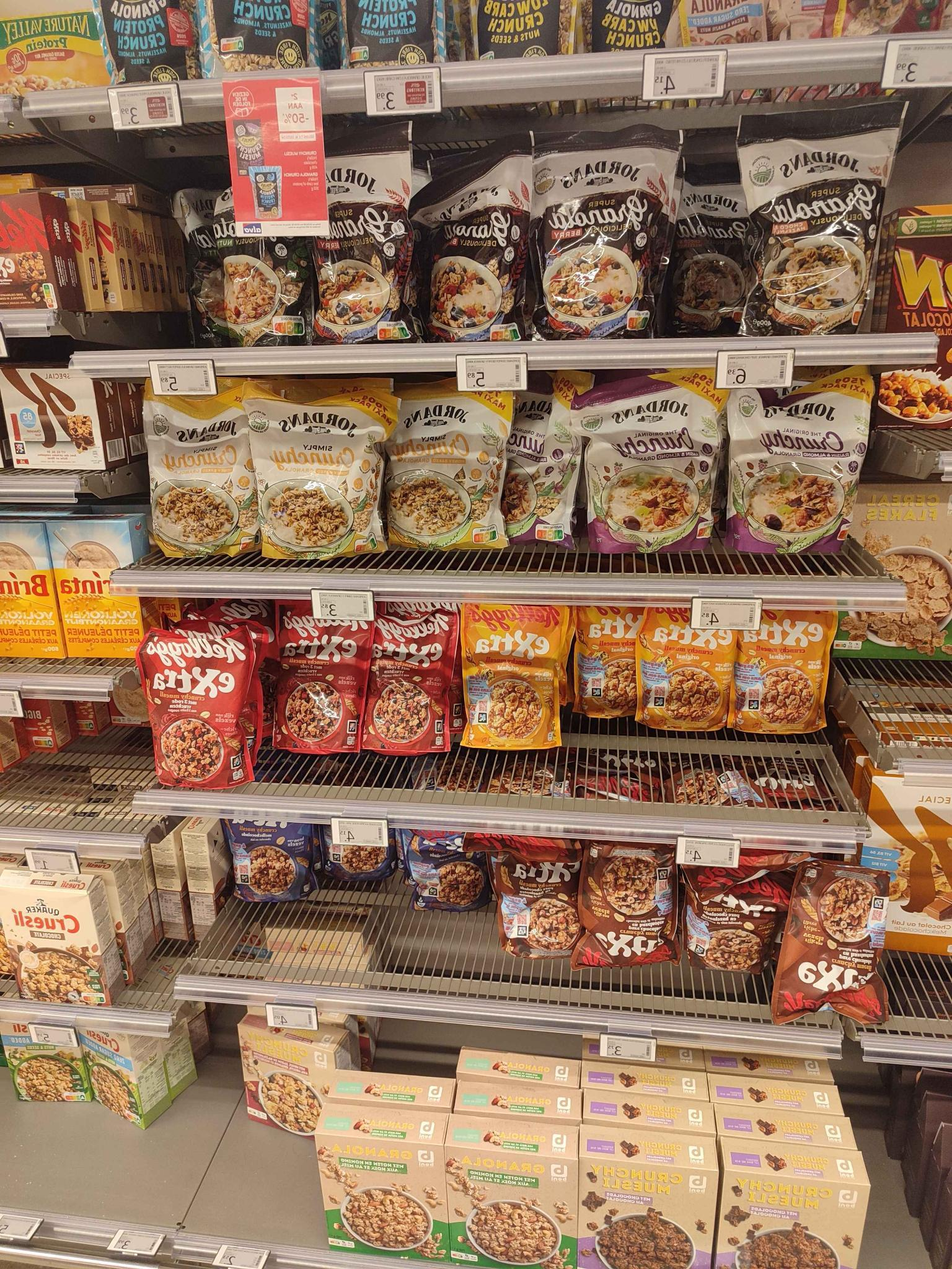nutri_A: (220, 37, 243, 52), (350, 46, 368, 63), (63, 1093, 87, 1103)
nutri_C: (379, 320, 408, 342), (469, 524, 497, 546), (274, 317, 305, 336), (535, 525, 564, 541), (82, 991, 104, 1005)
shelf_bottom: (0, 839, 948, 1264)
shelf_middle: (0, 388, 948, 824)
shelf_top: (0, 3, 950, 371)
